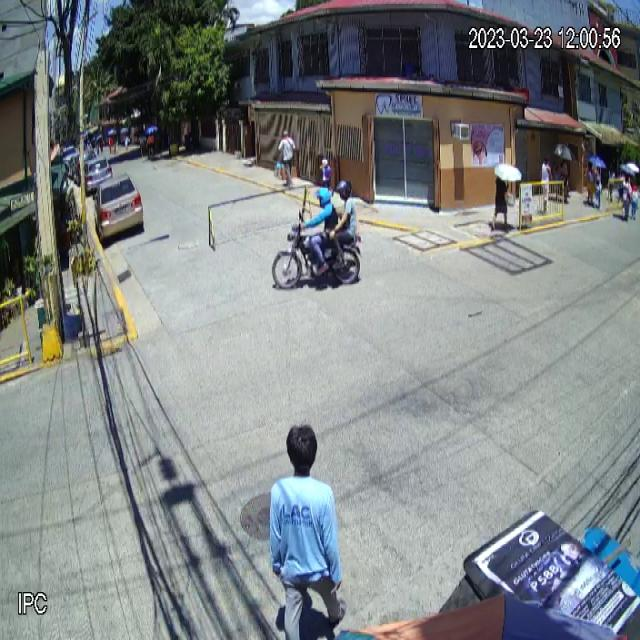Car: (94, 172, 144, 244)
Motorcycle: (270, 209, 364, 290)
